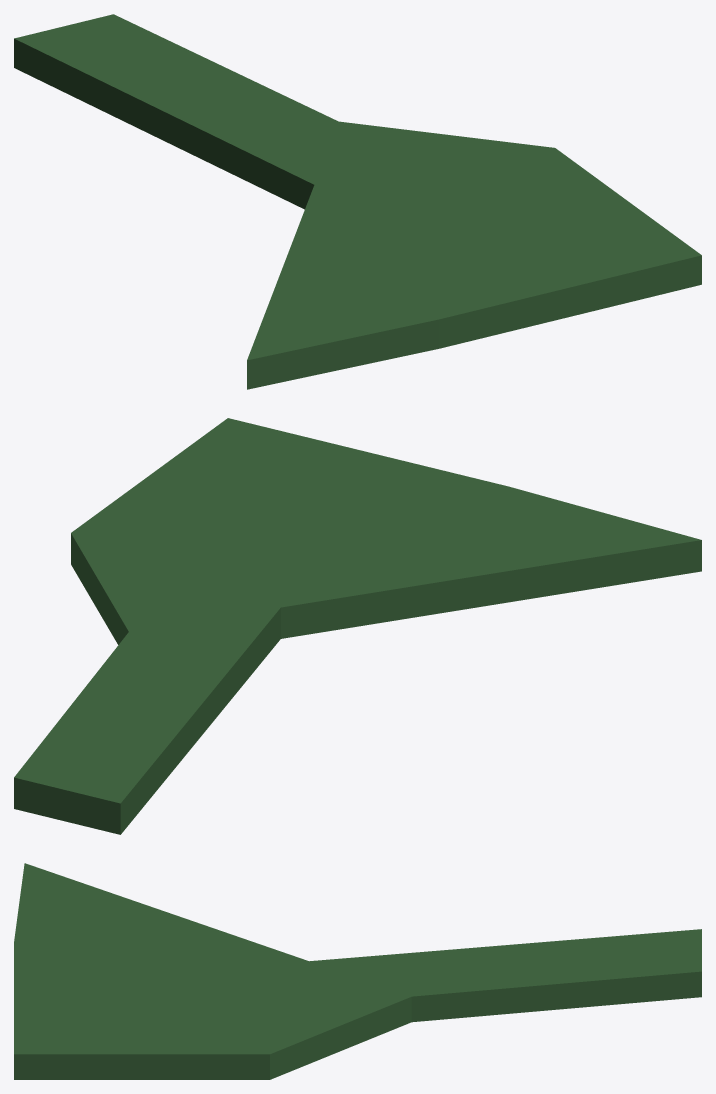
Rendered from x_proval_00_13_1_rmstrd.fbx.
The picture shows the model from 3 angles, top to bottom: view 1: azimuth 30°, elevation 25°; view 2: azimuth 150°, elevation 25°; view 3: azimuth 270°, elevation 25°; orthographic projection. The views are drawn at different scales.
Visible parts, largest first — view 1: x_proval_00_13_1_rmstrd1; view 2: x_proval_00_13_1_rmstrd1; view 3: x_proval_00_13_1_rmstrd1.
Part boxes in pixels (bbox=[...]): x_proval_00_13_1_rmstrd1: bbox=[14, 14, 701, 389]; x_proval_00_13_1_rmstrd1: bbox=[14, 418, 701, 834]; x_proval_00_13_1_rmstrd1: bbox=[14, 863, 701, 1079].
Bounding box in the file's own units: 3.2 × 0.2 × 4.86.
